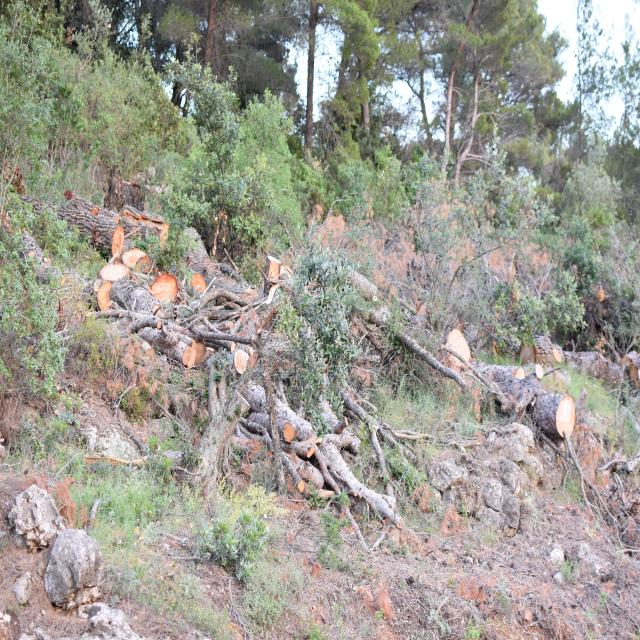restos de madeira: (52, 192, 129, 252), (256, 340, 286, 486), (201, 387, 252, 463), (580, 471, 634, 540), (562, 431, 601, 522), (514, 382, 578, 434), (380, 321, 431, 377), (431, 529, 497, 566), (458, 358, 508, 406), (9, 189, 71, 225), (179, 282, 244, 314), (124, 206, 170, 251), (353, 486, 403, 526), (246, 285, 284, 335), (338, 502, 373, 556), (95, 261, 133, 308), (307, 444, 341, 494), (276, 448, 312, 495), (184, 326, 249, 352), (367, 421, 392, 488), (117, 279, 164, 314), (424, 350, 462, 390), (522, 334, 564, 368), (439, 326, 471, 369), (107, 176, 145, 211), (113, 423, 150, 458), (166, 328, 196, 369), (358, 318, 393, 353), (568, 350, 610, 379), (207, 280, 262, 302), (340, 389, 370, 428), (599, 448, 640, 476), (345, 269, 379, 302), (148, 274, 182, 306), (539, 431, 569, 467), (217, 348, 250, 378), (123, 246, 155, 276), (324, 429, 361, 454), (376, 424, 424, 441), (84, 454, 146, 467), (277, 414, 309, 439), (266, 256, 293, 284), (290, 437, 322, 459), (190, 272, 216, 299), (445, 436, 494, 450), (129, 314, 162, 334), (621, 351, 640, 385), (238, 417, 268, 437), (482, 422, 521, 437), (85, 498, 102, 532), (91, 308, 132, 320), (543, 366, 571, 380), (595, 286, 611, 304)
